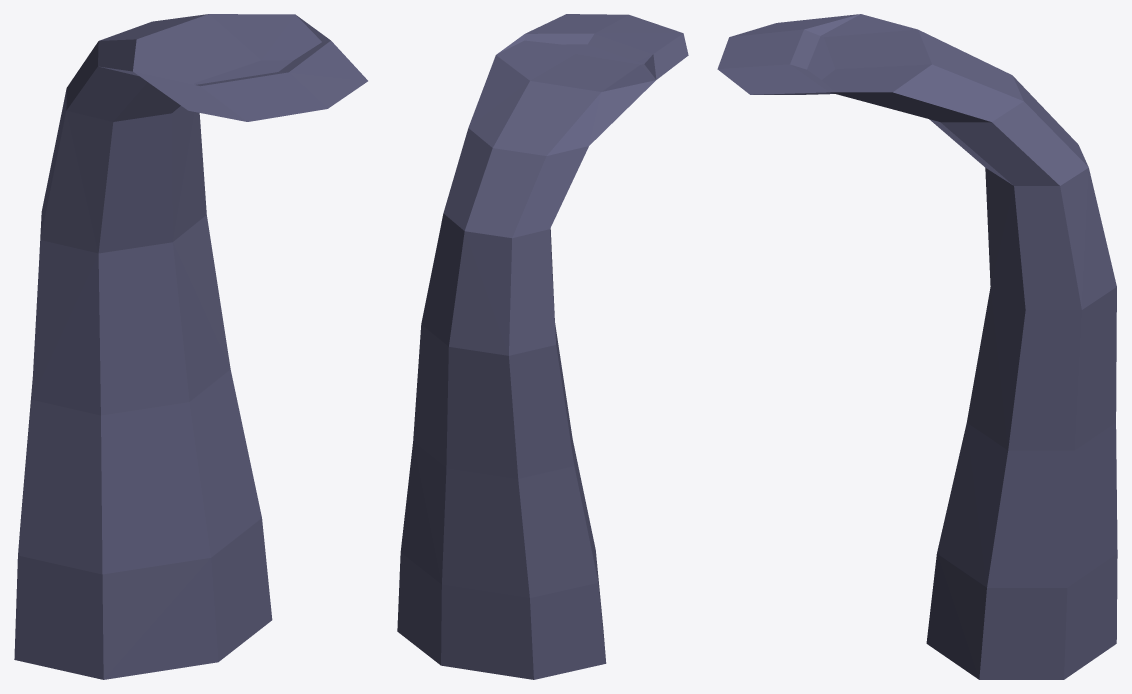
The model's file is shadow_stalker_leg.glb.
3 renders of one model, left to right at view 1: azimuth 30°, elevation 25°; view 2: azimuth 150°, elevation 25°; view 3: azimuth 270°, elevation 25°, orthographic. The views are drawn at different scales.
Parts seen in each view (by area): view 1: shadow_stalker_leg; view 2: shadow_stalker_leg; view 3: shadow_stalker_leg.
Boxes of the visible parts, x1,y1,x2,y2 form: shadow_stalker_leg: [14, 14, 367, 679]; shadow_stalker_leg: [397, 14, 688, 679]; shadow_stalker_leg: [717, 14, 1117, 679].
Bounding box in the file's own units: 0.3897 × 1.03 × 0.6478.
